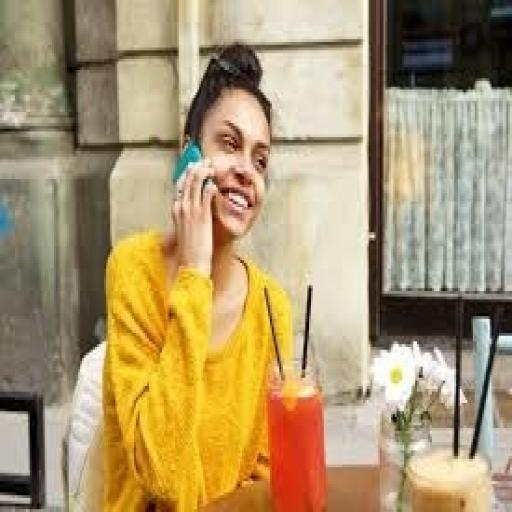calling: (99, 39, 296, 509)
